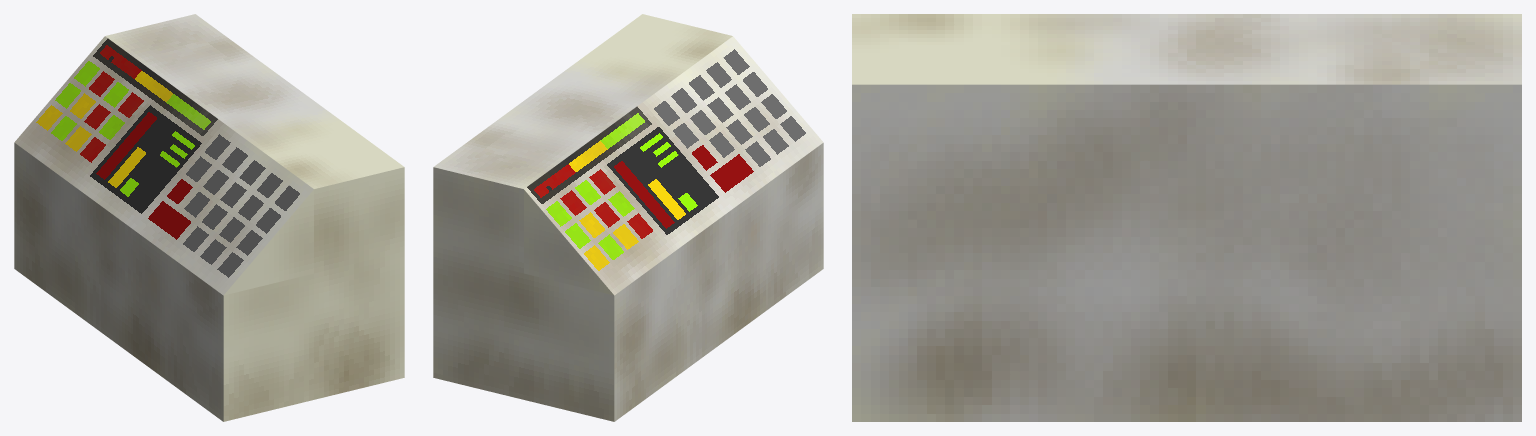
Rendered from Generic Machine.gltf.
3 views of the same model, side by side, from view 1: azimuth 30°, elevation 25°; view 2: azimuth 150°, elevation 25°; view 3: azimuth 270°, elevation 25° (orthographic). The views are drawn at different scales.
Visible parts, largest first — view 1: cuboid; view 2: cuboid; view 3: cuboid.
Boxes of the visible parts, x1,y1,x2,y2 form: cuboid: (14,14,404,421); cuboid: (433,14,823,421); cuboid: (852,14,1521,421).
Size of the model in its own units: 1.12 by 1.25 by 2.25.
1 material, 1 textured.
